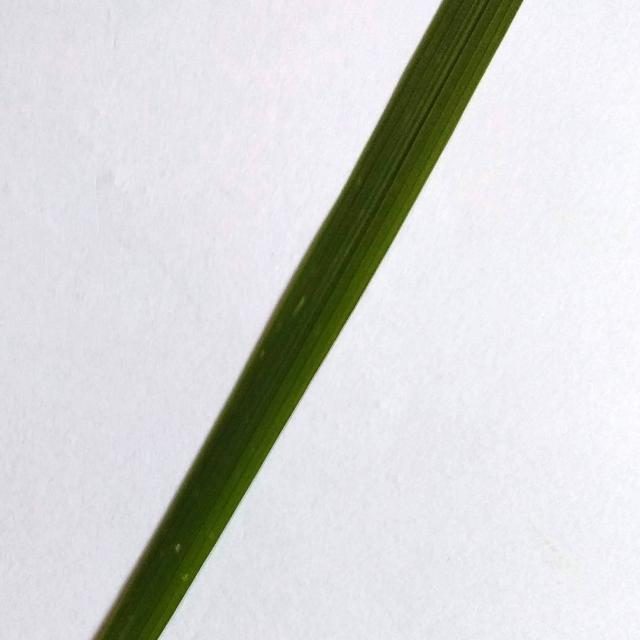Rice_Healthy: (94, 0, 522, 640)
